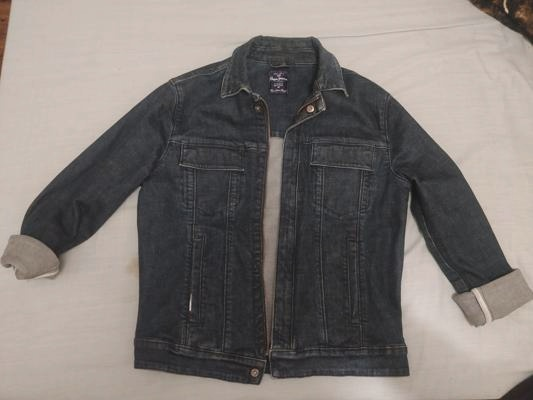Blazer: (11, 47, 533, 386)
